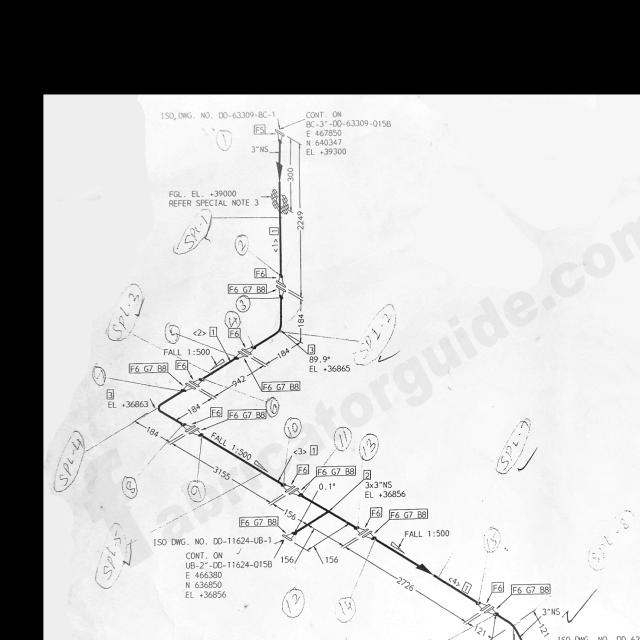Item number: (388, 508, 429, 521), (317, 464, 358, 476), (511, 583, 552, 595), (238, 515, 279, 527), (260, 380, 301, 392), (128, 362, 168, 374), (228, 282, 268, 294), (227, 408, 269, 419), (210, 405, 223, 419), (370, 505, 383, 518), (253, 123, 267, 135), (491, 581, 505, 593), (174, 359, 188, 371), (461, 579, 471, 595), (297, 463, 310, 475), (254, 267, 268, 278), (206, 325, 217, 338), (310, 443, 319, 456), (268, 225, 277, 237), (228, 329, 240, 338), (107, 387, 114, 399)
Measrement: (349, 548, 470, 626), (169, 440, 274, 504), (211, 362, 268, 399), (281, 522, 317, 567), (262, 340, 303, 368), (270, 498, 311, 526), (133, 416, 172, 444), (175, 395, 214, 422), (286, 133, 295, 229), (466, 619, 496, 639), (295, 292, 304, 344), (537, 607, 569, 620)
Pipeline: (371, 534, 476, 603), (200, 430, 284, 485), (250, 289, 287, 350)
Symbol: (249, 290, 286, 351), (152, 384, 191, 428), (493, 613, 525, 639), (178, 421, 203, 437), (476, 601, 499, 618), (352, 526, 377, 541), (281, 481, 303, 497), (235, 344, 256, 360), (413, 560, 432, 575)
Weld number: (280, 587, 308, 620), (585, 540, 611, 574), (334, 595, 358, 624), (359, 432, 380, 462), (483, 525, 503, 554), (185, 480, 206, 504), (334, 425, 353, 451), (284, 415, 303, 440), (121, 474, 138, 500), (216, 129, 233, 152), (164, 321, 181, 344), (91, 363, 106, 387), (234, 233, 249, 256), (224, 309, 240, 330), (266, 397, 280, 417)
other: (153, 534, 272, 600), (304, 107, 392, 157), (164, 185, 262, 208), (160, 106, 272, 122)
